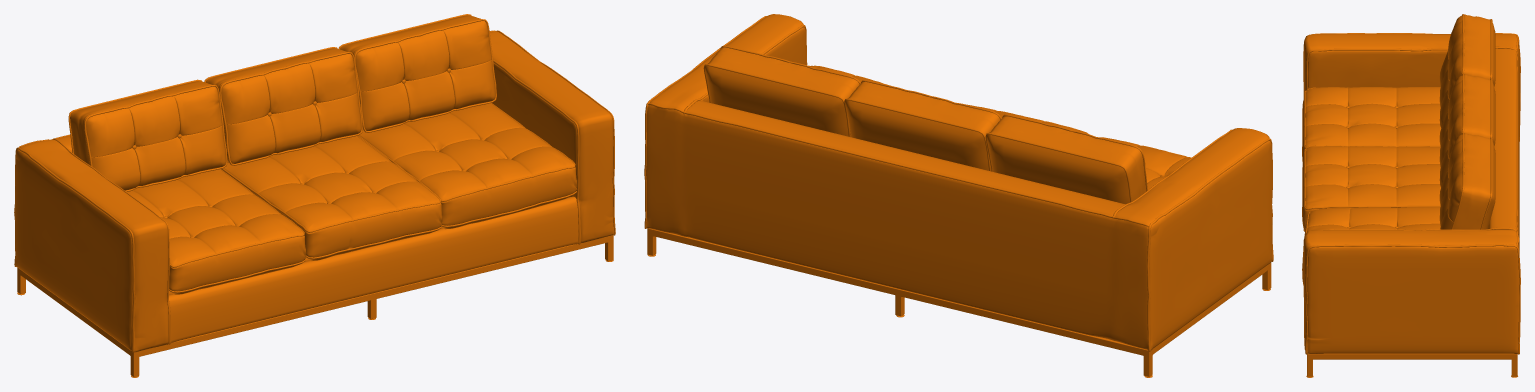
Rendered from SofaSet_Gen_3_Couch.fbx.
3 views of the same model, side by side, from view 1: azimuth 30°, elevation 25°; view 2: azimuth 150°, elevation 25°; view 3: azimuth 270°, elevation 25° (orthographic). The views are drawn at different scales.
Visible parts, largest first — view 1: mesh_couch; view 2: mesh_couch; view 3: mesh_couch.
Boxes of the visible parts, x1,y1,x2,y2 form: mesh_couch: [14, 14, 615, 377]; mesh_couch: [644, 14, 1273, 377]; mesh_couch: [1302, 14, 1520, 377].
Size of the model in its own units: 209 by 77.99 by 90.01.
